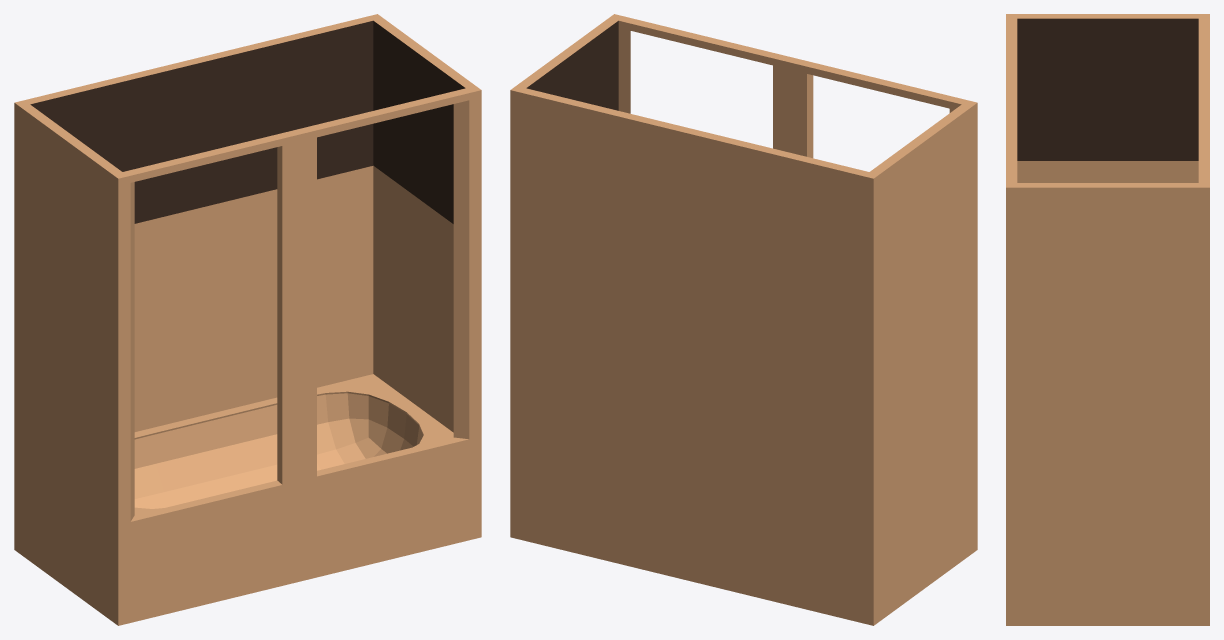
File: Bath.fbx
3 views of the same model, side by side, from view 1: azimuth 30°, elevation 25°; view 2: azimuth 150°, elevation 25°; view 3: azimuth 270°, elevation 25° (orthographic). The views are drawn at different scales.
Parts seen in each view (by area): view 1: Bath; view 2: Bath; view 3: Bath.
Boxes of the visible parts, <box> form: Bath: <box>14,14,481,625</box>; Bath: <box>510,14,977,625</box>; Bath: <box>1006,14,1209,625</box>.
Bounding box in the file's own units: 515 × 605 × 255.
